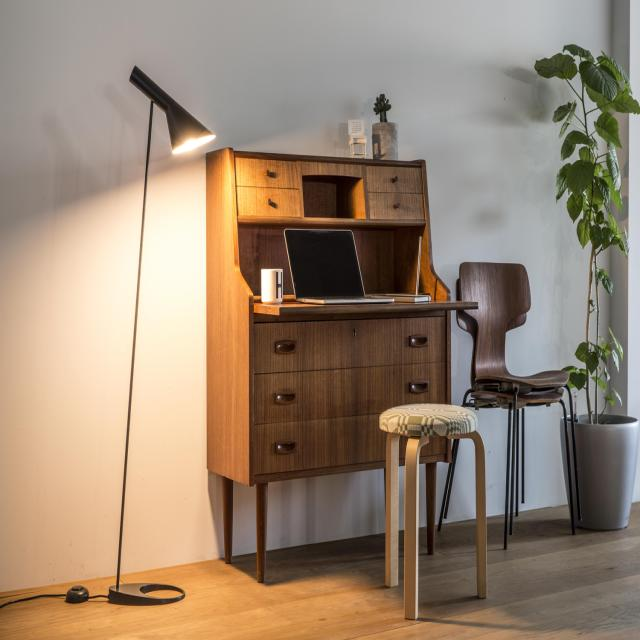vintage chair: (460, 255, 580, 518), (380, 397, 499, 628)
vintage shelf: (200, 140, 446, 576)
